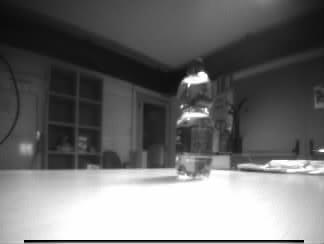Bottle: (177, 59, 212, 179)
